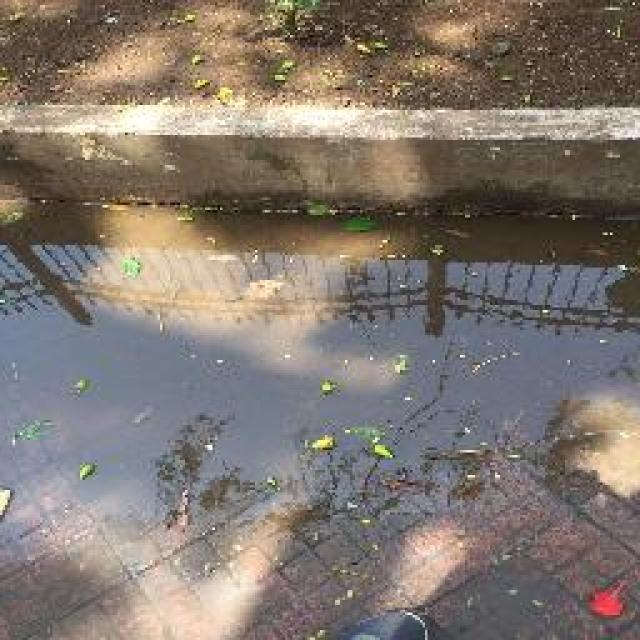puddle: (6, 201, 640, 468)
